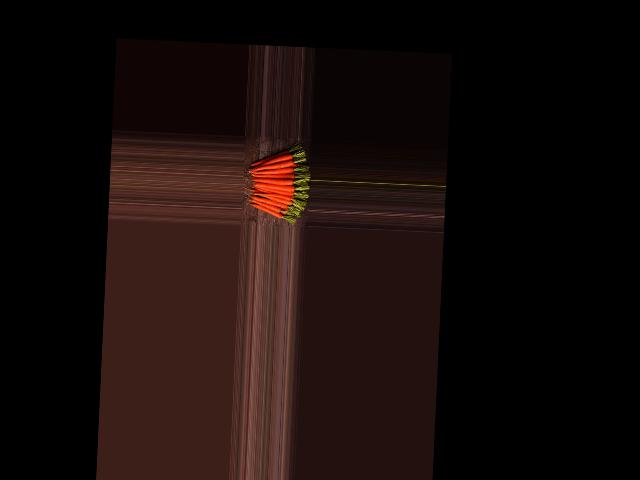carrot: (250, 210, 284, 218)
